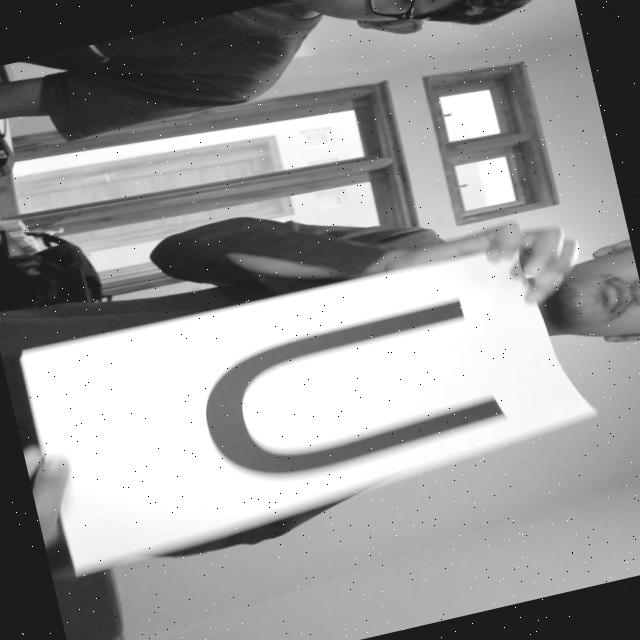u: (146, 268, 528, 522)
